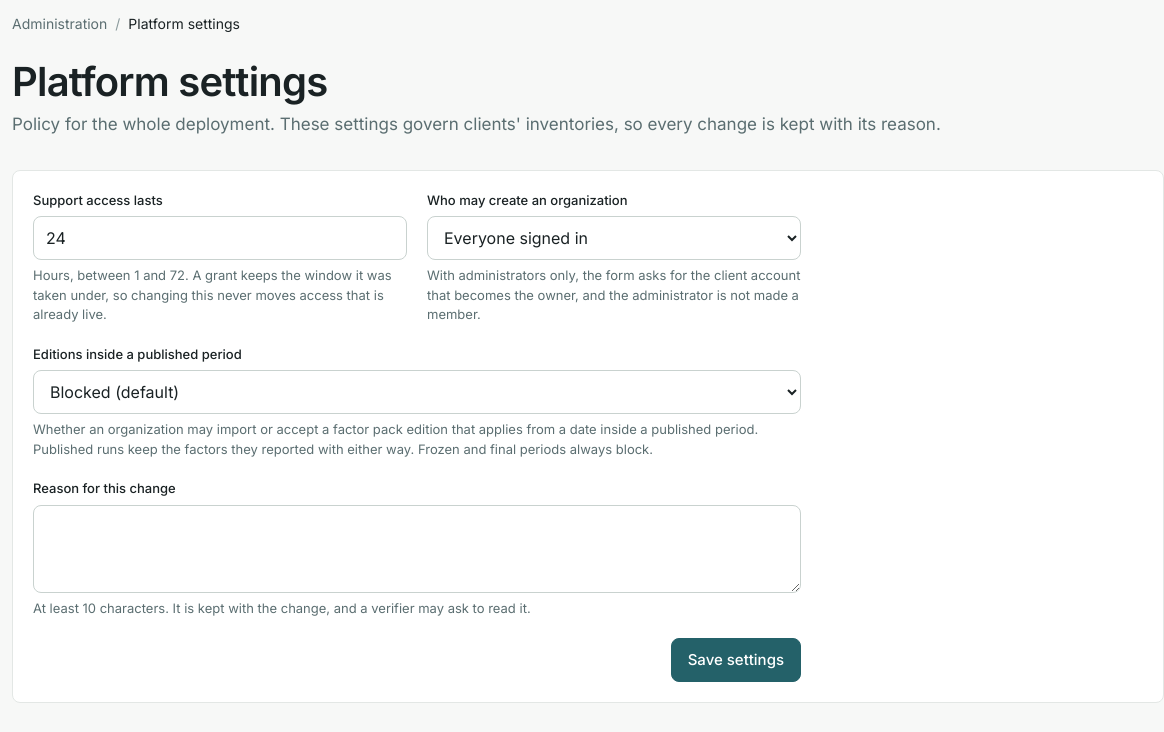
Test: a refused window shows under its own field
Replace the text in the number field labelled "Support access lasts" with "200" at {"x": 220, "y": 238}, box [33,216,407,260]
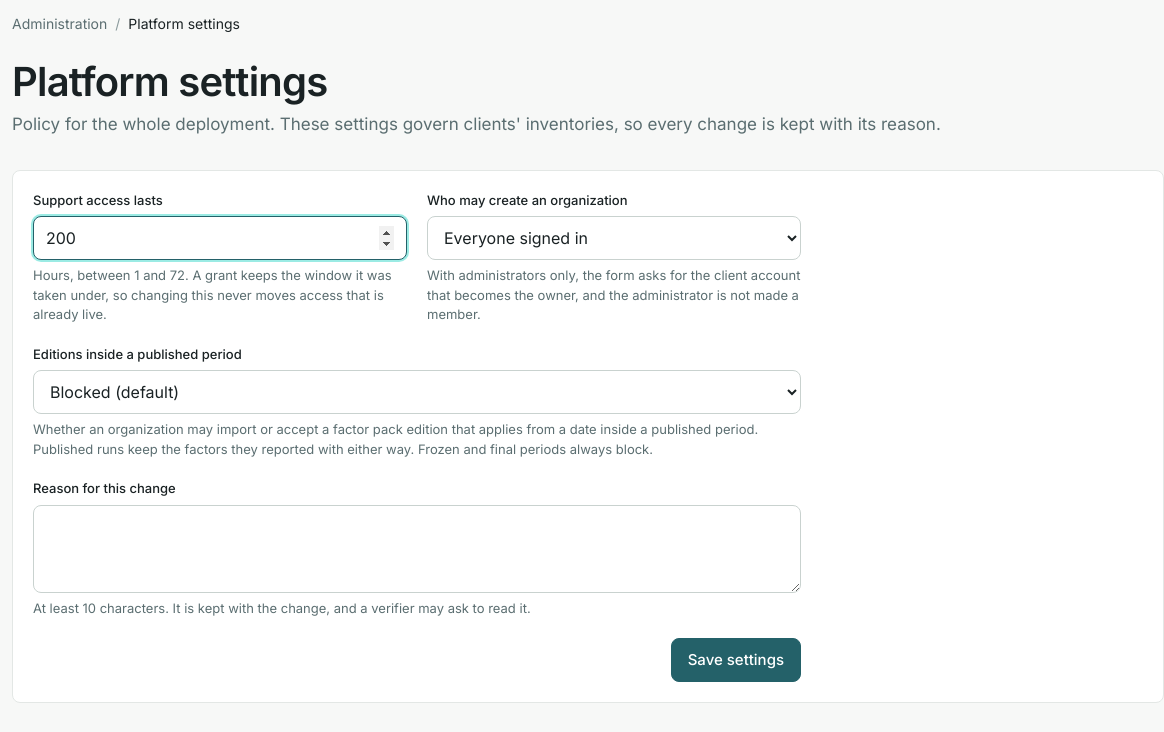
Type "a very long window" into the text box labelled "Reason for this change" at {"x": 417, "y": 548}, box [33,504,801,592]
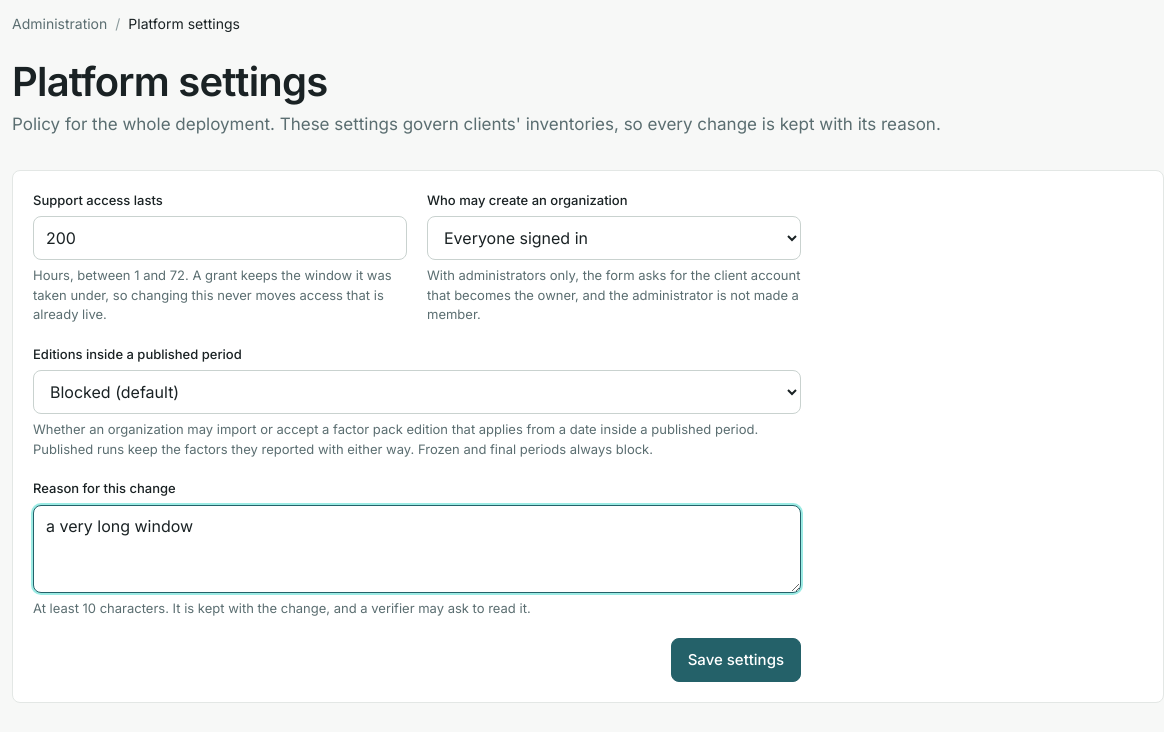
Click the button "Save settings" at {"x": 736, "y": 660}, box [671,638,801,682]
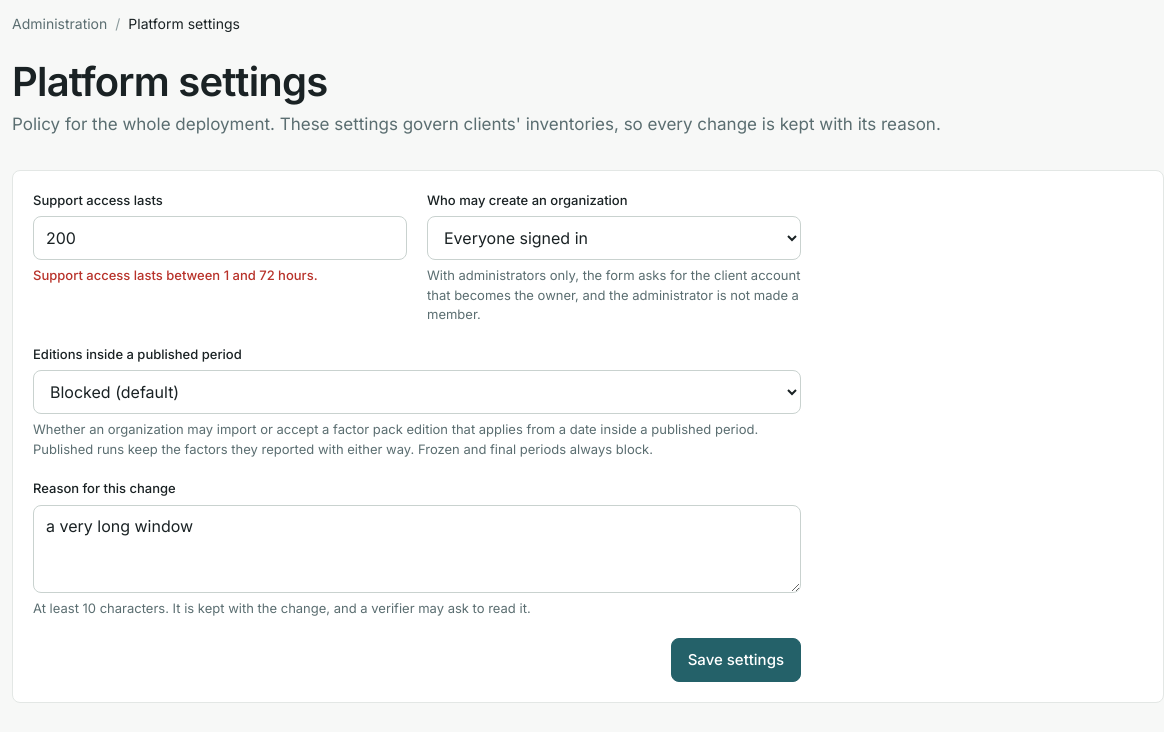
Check: the text "Support access lasts between 1 and 72 hours." is shown, box [33,267,318,283]
